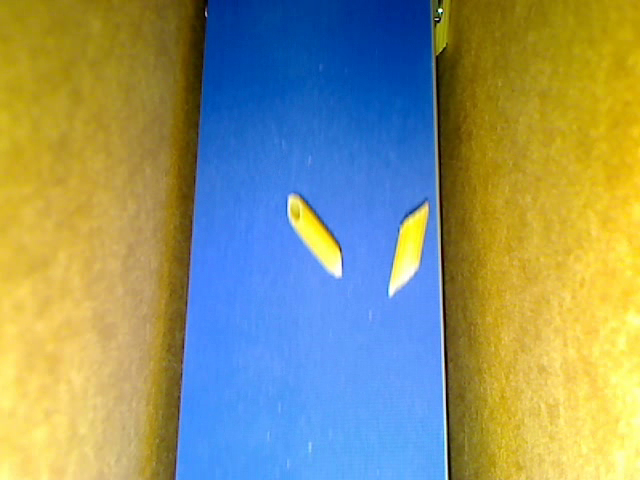penne: (288, 192, 346, 280), (385, 200, 428, 297), (429, 1, 448, 58)
